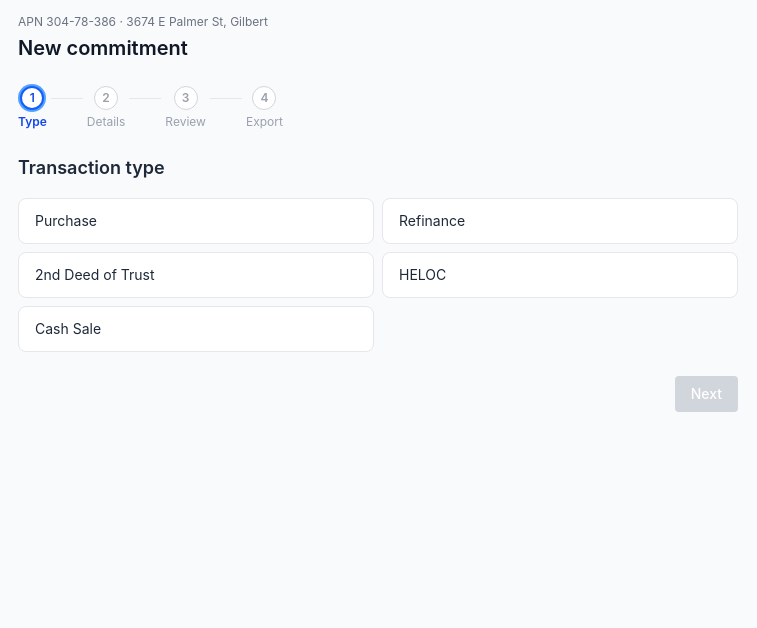
Scenario: TransactionWizard › step 2 requires all refinance fields before Next enables
This screenshot has width=757, height=628.
Click the button "Refinance" at [432, 220], box [382,198,738,244]
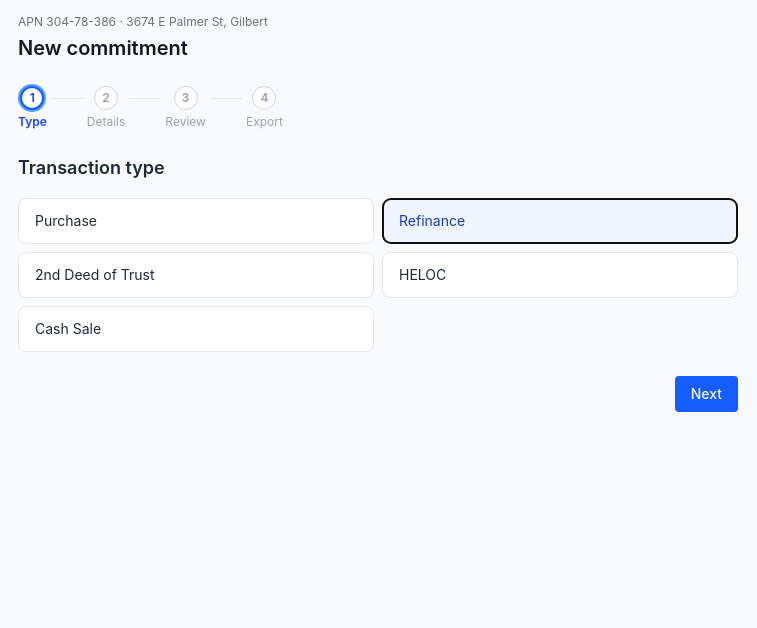
Click the button "Next" at [706, 394], box [675,376,738,412]
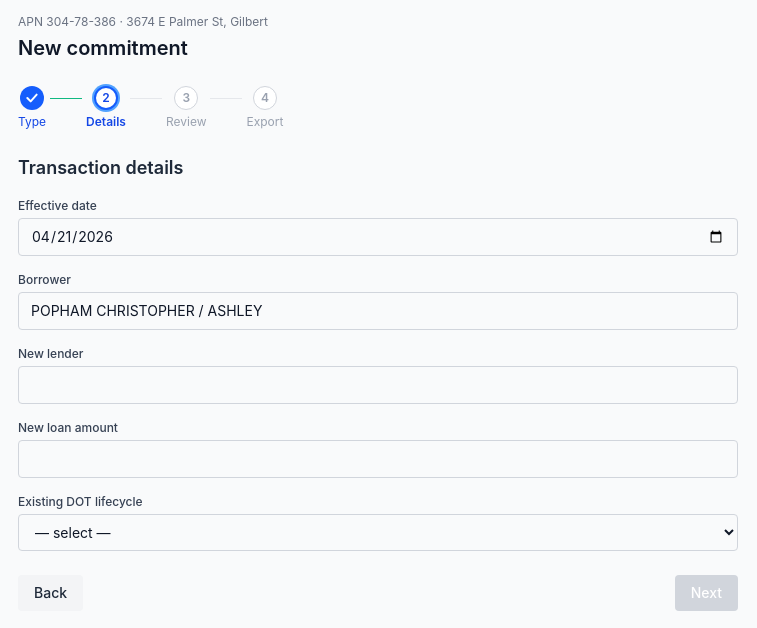
Expected: the button "Next" is disabled, [675,575,738,611]
Type "ACME BANK, N.A." into the field labelled "New lender" at [378, 385], box [18,366,738,404]
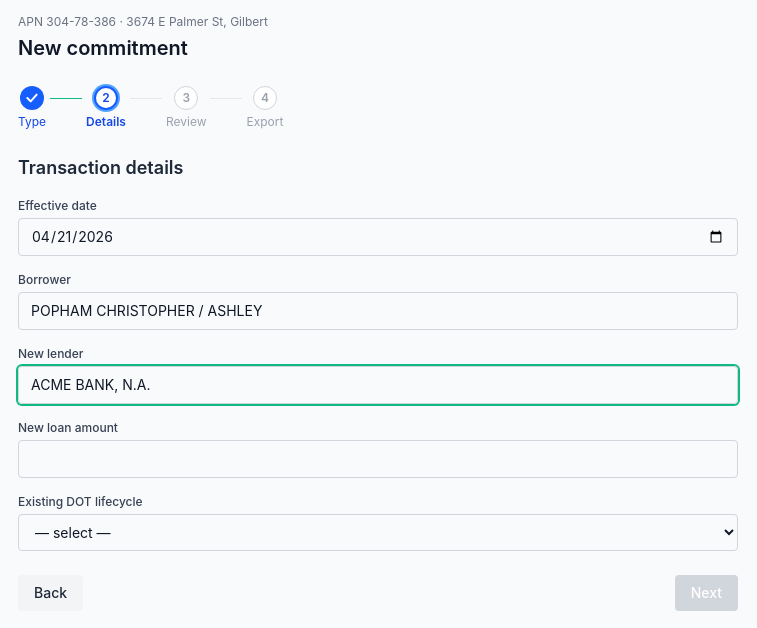
Expected: the button "Next" is disabled, [675,575,738,611]
Type "$350,000" into the field labelled "New loan amount" at [378, 459], box [18,440,738,478]
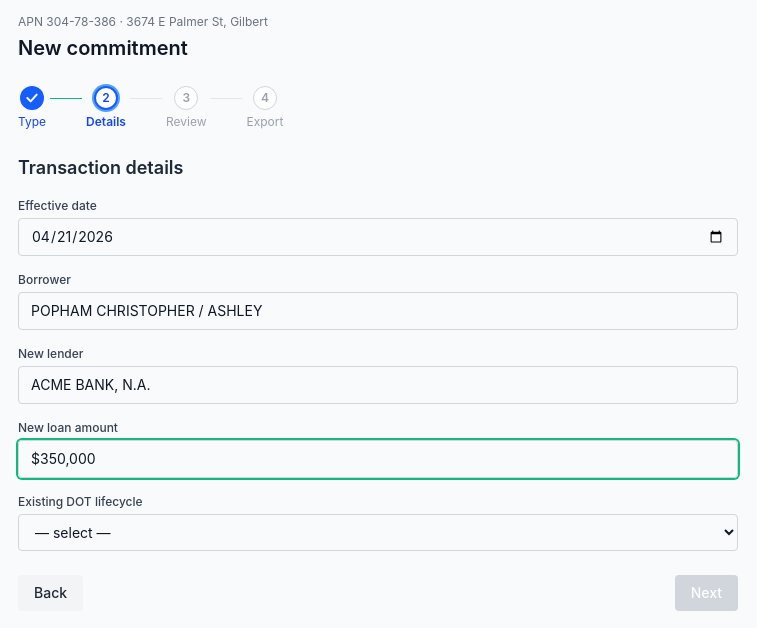
Expected: the button "Next" is disabled, [675,575,738,611]
Select the first open lifecycle option
Select "lc-002 — DEED TRST (20210057847)" in the dropdown labelled "Existing DOT lifecycle" at [378, 532], box [18,514,738,551]
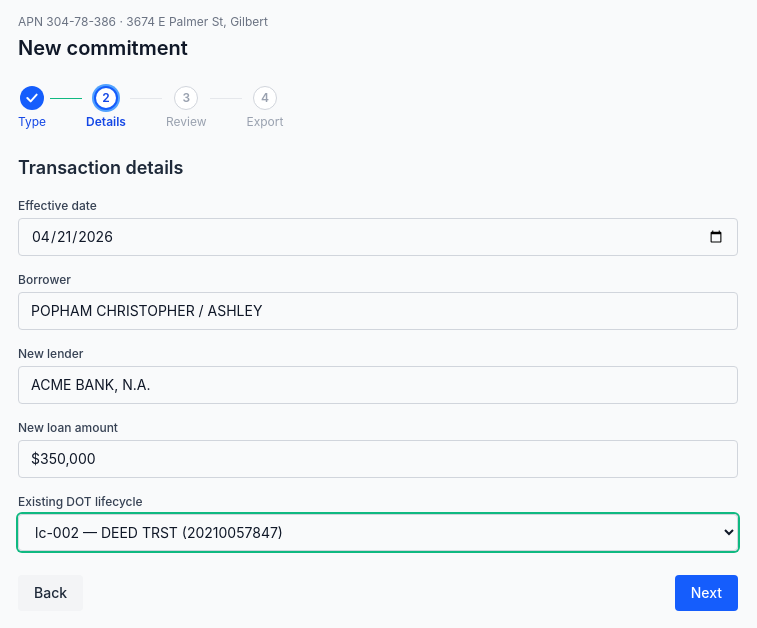
Expected: the button "Next" is enabled, [675,575,738,611]
